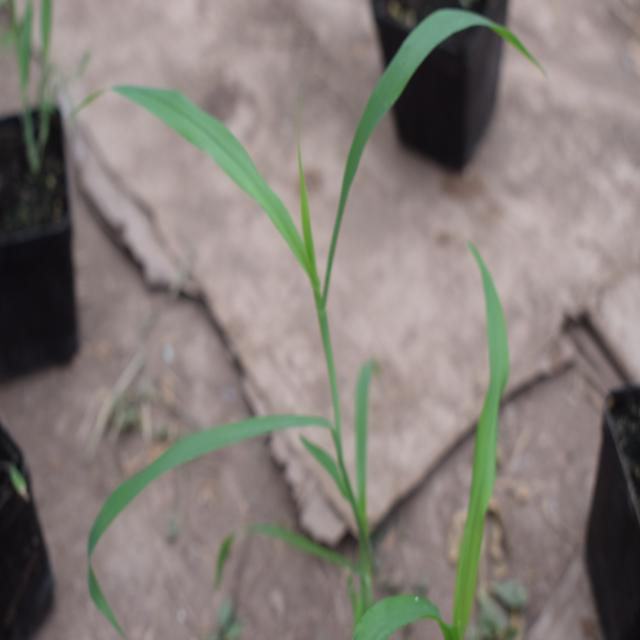crabgrass: (105, 2, 466, 544)
